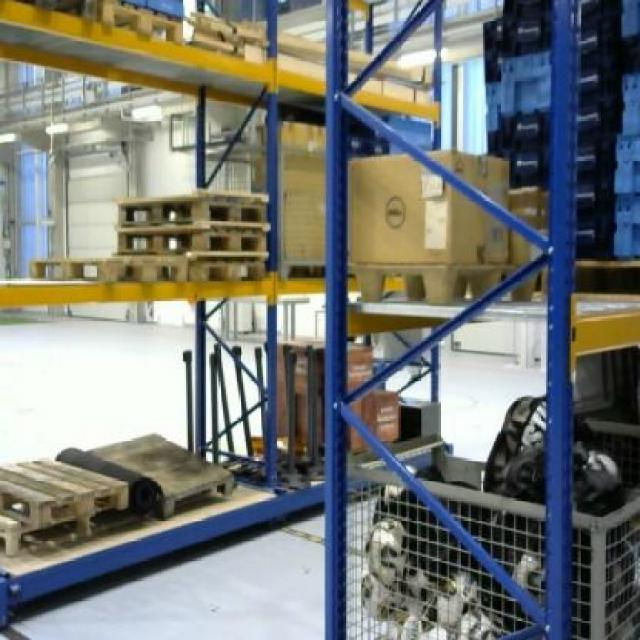box: (346, 150, 509, 264), (281, 120, 324, 260)
